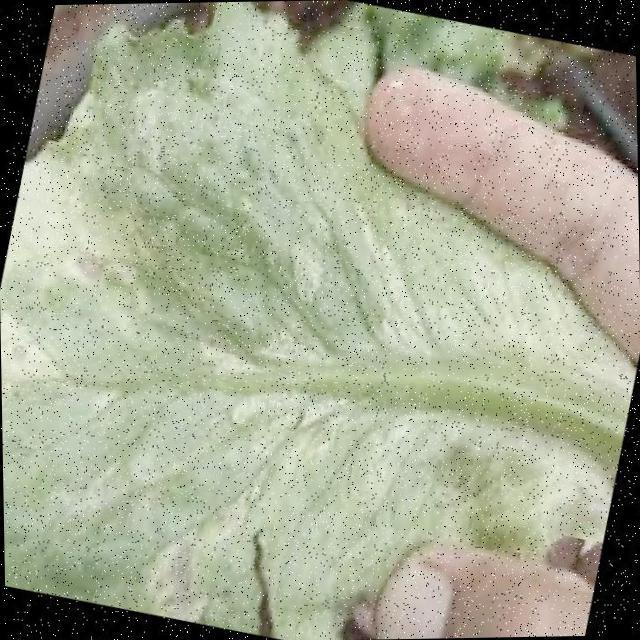Downy_Mildew: (0, 152, 328, 499)
